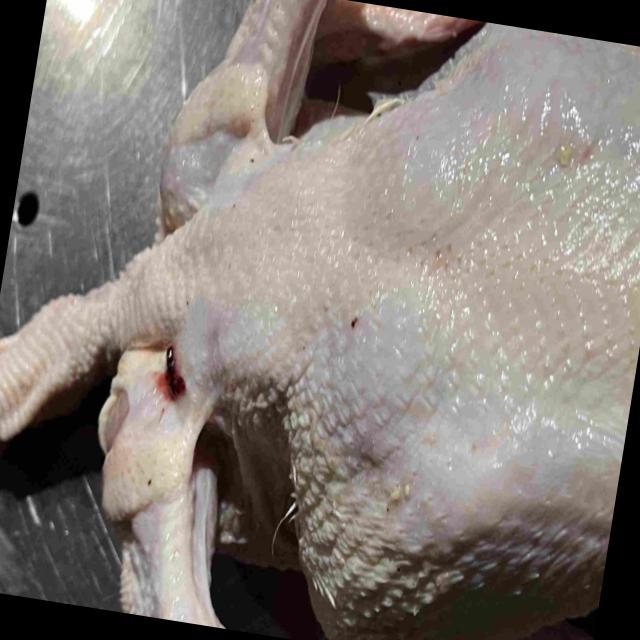back: (199, 63, 640, 592)
leg: (330, 587, 602, 640)
neck: (0, 239, 192, 461)
wing: (160, 0, 485, 236), (95, 339, 226, 629)
